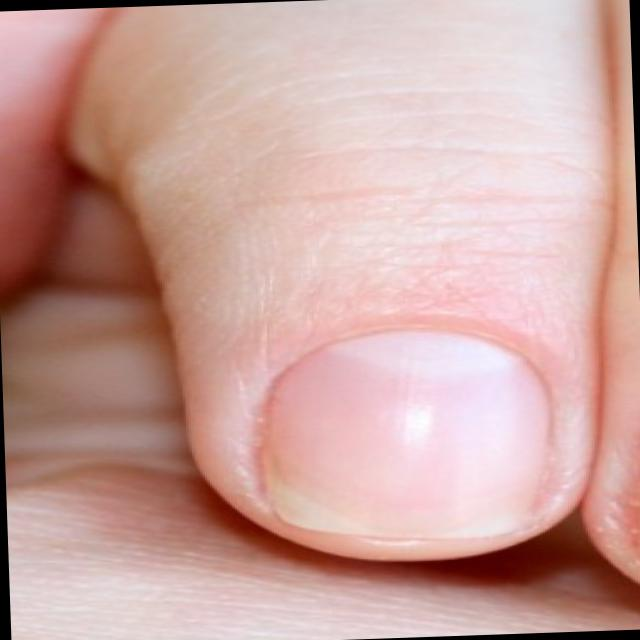Nail: (262, 329, 550, 539)
